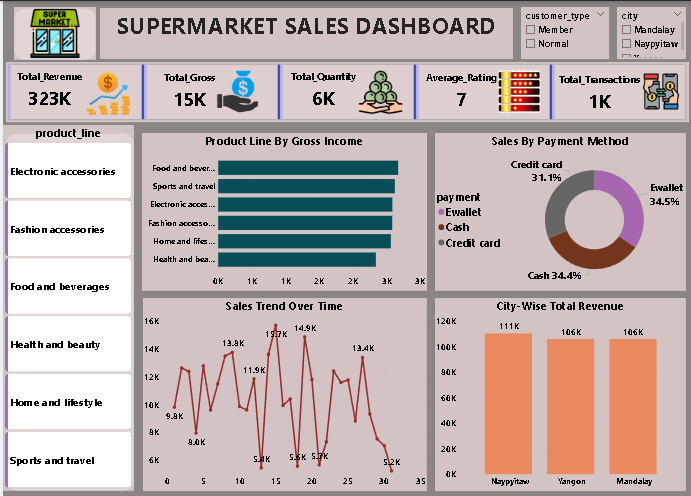

What the dashboard file says about the page in this screenshot:
{"tool":"powerbi","page":{"name":"DASHBOARD","canvas":[1800,1300],"ordinal":0},"visuals":[{"type":"cardVisual","fields":{"Data":["supermarket supermarket_sales.Total_Revenue","supermarket supermarket_sales.Total_Gross","supermarket supermarket_sales.Total_Quantity_Sold","supermarket supermarket_sales.Average_Rating","supermarket supermarket_sales.Total_Transactions"]},"box":[8.5,159.2,1782.9,156.6],"z":0},{"type":"slicer","fields":{"Values":["supermarket supermarket_sales.city"]},"box":[1602.8,15.7,180.1,135.7],"z":1000},{"type":"slicer","fields":{"Values":["supermarket supermarket_sales.customer_type"]},"box":[1352.2,15.7,229.7,135.7],"z":2000},{"type":"clusteredColumnChart","title":"City-Wise Total Revenue","fields":{"Category":["supermarket supermarket_sales.city"],"Y":["Sum(supermarket supermarket_sales.total)"]},"box":[1127.7,775.3,655.2,503.8],"z":3000},{"type":"shape","box":[28.7,18.3,214.1,135.7],"z":3500},{"type":"clusteredBarChart","title":"Product Line By Gross Income","fields":{"Category":["supermarket supermarket_sales.product_line"],"Y":["Sum(supermarket supermarket_sales.gross_income)"]},"box":[362.9,344.6,744,412.4],"z":4000},{"type":"donutChart","title":"Sales By Payment Method","fields":{"Category":["supermarket supermarket_sales.payment"],"Y":["CountNonNull(supermarket supermarket_sales.payment)"]},"box":[1127.7,344.6,655.2,412.4],"z":6000},{"type":"shape","box":[7.8,344.6,334.1,934.5],"z":7000},{"type":"lineChart","title":"Sales Trend Over Time","fields":{"Category":["supermarket supermarket_sales.date.Variation.Date Hierarchy.Day"],"Y":["Sum(supermarket supermarket_sales.total)"]},"box":[365.5,775.3,741.4,503.8],"z":8000},{"type":"advancedSlicerVisual","fields":{"Values":["supermarket supermarket_sales.product_line"]},"box":[0,323.7,342,955.4],"z":10000},{"type":"textbox","box":[253.2,18.3,1078.1,133.1],"z":11000},{"type":"image","box":[28.7,15.7,214.1,138.4],"z":12000}]}

Visuals, with their boxes in screenshot pixels (x1, y1, x2, y2), scaled from the page's 1800x1300 canvas onto the 691x496 screenshot:
cardVisual - supermarket supermarket_sales.Total_Revenue x supermarket supermarket_sales.Total_Gross: bbox=[3, 61, 688, 120]
slicer - supermarket supermarket_sales.city: bbox=[615, 6, 684, 58]
slicer - supermarket supermarket_sales.customer_type: bbox=[519, 6, 607, 58]
"City-Wise Total Revenue" clusteredColumnChart: bbox=[433, 296, 684, 488]
shape: bbox=[11, 7, 93, 59]
"Product Line By Gross Income" clusteredBarChart: bbox=[139, 131, 425, 289]
"Sales By Payment Method" donutChart: bbox=[433, 131, 684, 289]
shape: bbox=[3, 131, 131, 488]
"Sales Trend Over Time" lineChart: bbox=[140, 296, 425, 488]
advancedSlicerVisual - supermarket supermarket_sales.product_line: bbox=[0, 124, 131, 488]
textbox: bbox=[97, 7, 511, 58]
image: bbox=[11, 6, 93, 59]
